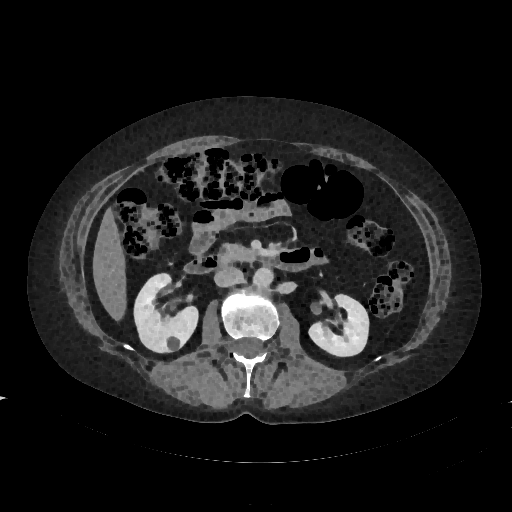Lesion: (163, 332, 181, 355)
